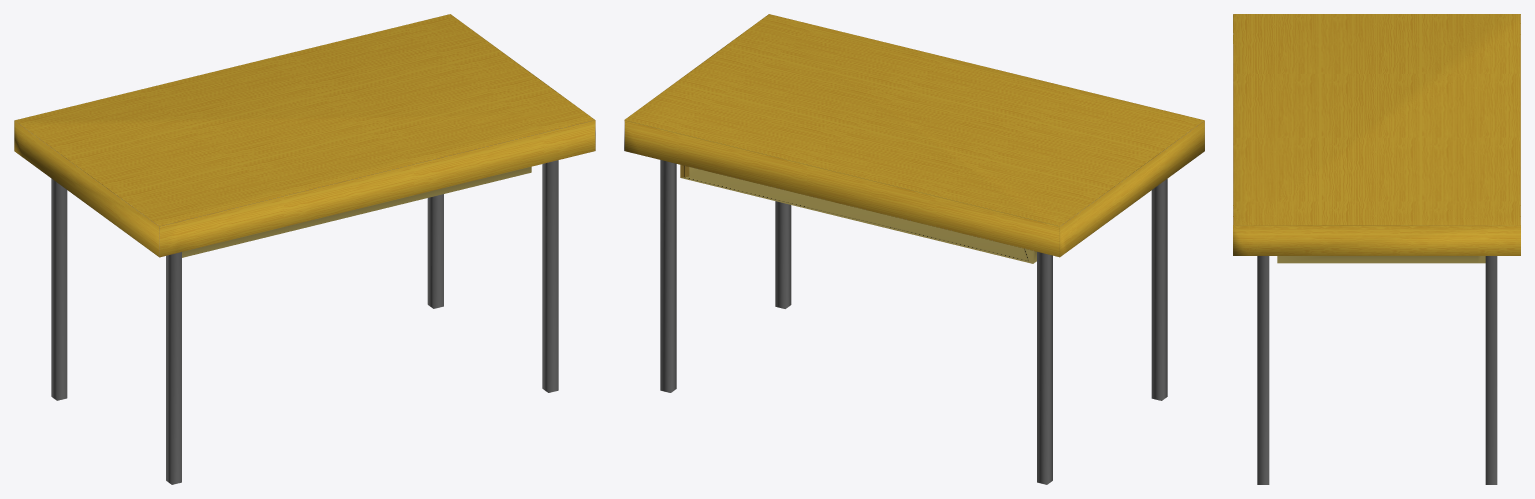
File: Classroom Desk.fbx
3 views of the same model, side by side, from view 1: azimuth 30°, elevation 25°; view 2: azimuth 150°, elevation 25°; view 3: azimuth 270°, elevation 25° (orthographic).
Visible parts, largest first — view 1: Desk; view 2: Desk; view 3: Desk.
Part boxes in pixels (box(x1,y1,x2,y2)): Desk: box(14, 14, 595, 484); Desk: box(624, 14, 1204, 484); Desk: box(1233, 14, 1520, 484).
Bounding box in the file's own units: 56.21 × 33.69 × 32.37.
3 materials, 1 textured.
